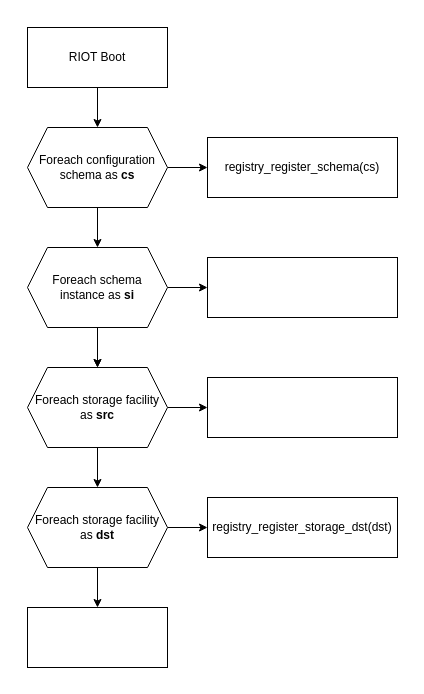
This 424x694 diagram has some shape labels left out. Each missing label, with the centre of its shape:
"main()" belongs at (x=97, y=637).
"registry_add_instance(cs, si)" belongs at (x=302, y=287).
"registry_register_storage_src(src)" belongs at (x=302, y=407).
